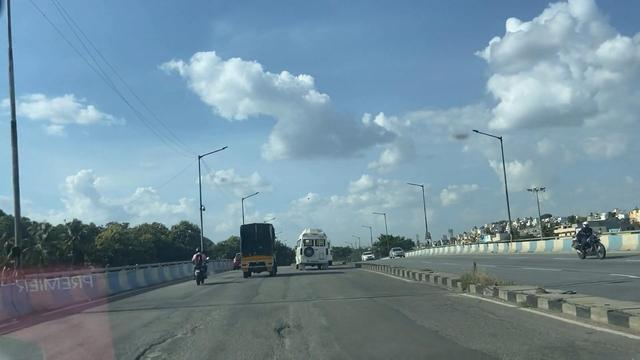HMV: (231, 220, 283, 278), (297, 225, 329, 272)
LMV: (187, 247, 215, 285)
RoadDamages: (377, 301, 491, 360), (137, 303, 213, 360), (255, 307, 311, 359)
